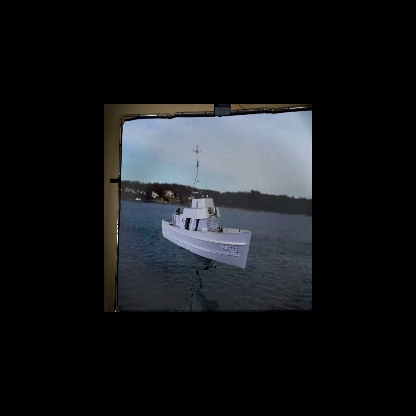YP689: (161, 142, 252, 269)
